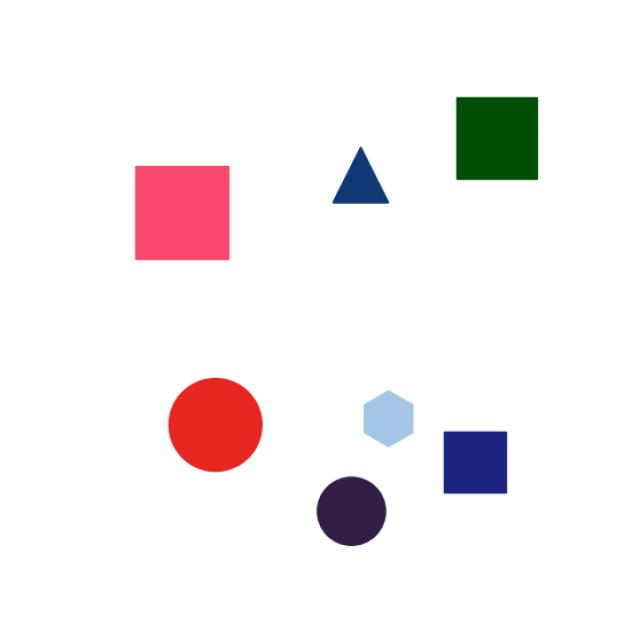Circle: (136, 365, 291, 494), (307, 460, 396, 566)
Hexagon: (344, 372, 426, 454)
Triangle: (318, 119, 407, 230)
square: (115, 143, 242, 268), (438, 84, 550, 198), (429, 418, 539, 519)
